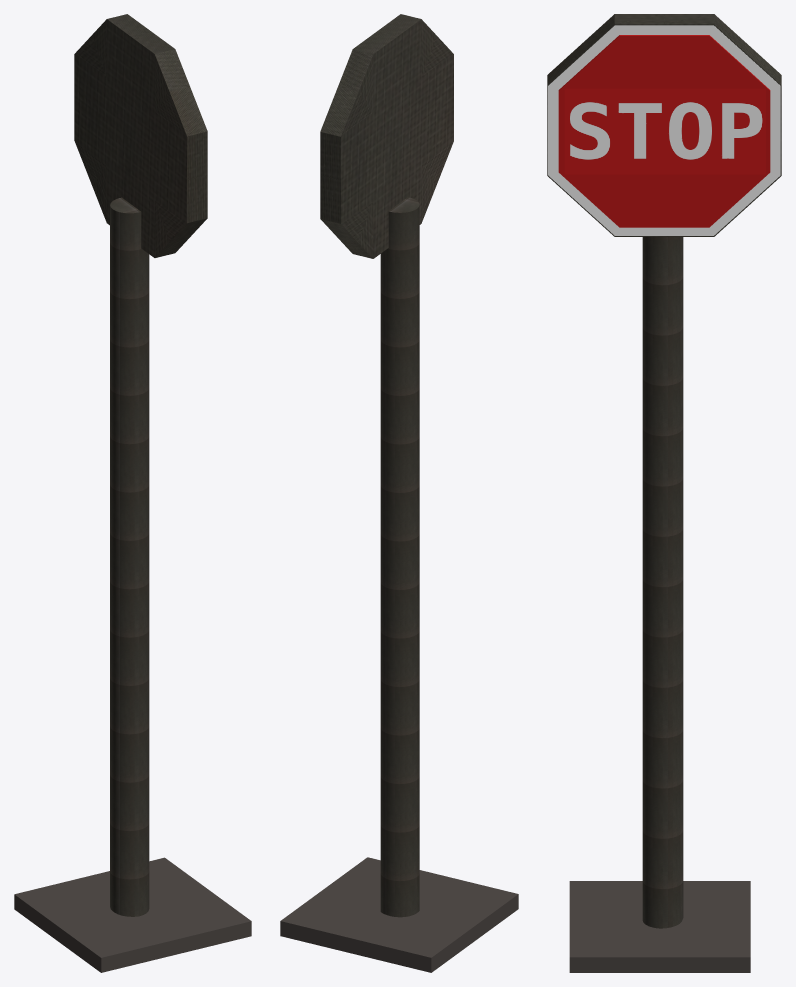
File: sign_stop.obj
3 views of the same model, side by side, from view 1: azimuth 30°, elevation 25°; view 2: azimuth 150°, elevation 25°; view 3: azimuth 270°, elevation 25° (orthographic). The views are drawn at different scales.
Visible parts, largest first — view 1: SketchUp.001_ID10.001, Cube_Cube.001, SketchUp_ID2.001; view 2: SketchUp.001_ID10.001, Cube_Cube.001, SketchUp_ID2.001; view 3: SketchUp.001_ID10.001, Plane, Cube.001_Cube.002, SketchUp_ID2.001, Cube_Cube.000, Cube_Cube.001.
Part boxes in pixels (x1,y1,x2,y2): SketchUp.001_ID10.001: [110, 197, 149, 916]; Cube_Cube.001: [74, 14, 207, 257]; SketchUp_ID2.001: [14, 857, 251, 972]; SketchUp.001_ID10.001: [380, 197, 419, 917]; Cube_Cube.001: [320, 14, 453, 258]; SketchUp_ID2.001: [280, 857, 518, 972]; SketchUp.001_ID10.001: [642, 237, 683, 928]; Plane: [564, 88, 765, 174]; Cube.001_Cube.002: [558, 35, 770, 227]; SketchUp_ID2.001: [569, 881, 750, 972]; Cube_Cube.000: [548, 25, 780, 235]; Cube_Cube.001: [547, 14, 781, 236].
Bounding box in the file's own units: 0.0349 × 0.1962 × 0.0453.
5 materials, 5 textured.
